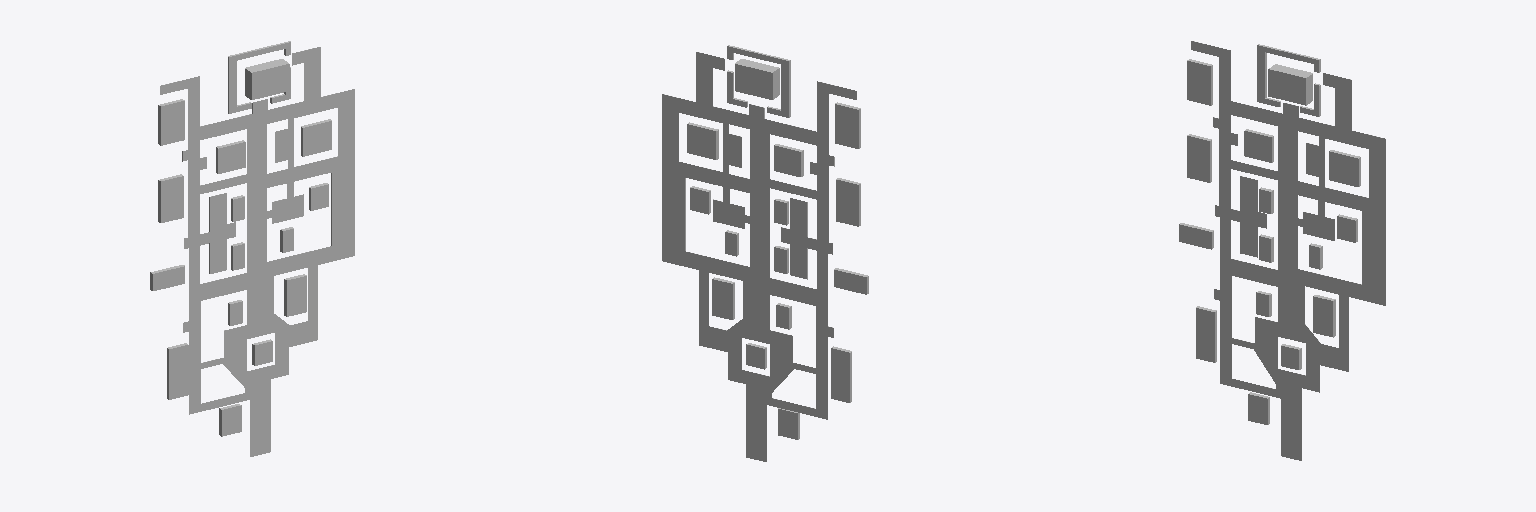
The model's file is exact_map.obj.
3 renders of one model, left to right at view 1: azimuth 30°, elevation 25°; view 2: azimuth 150°, elevation 25°; view 3: azimuth 330°, elevation 25°, orthographic.
Parts seen in each view (by area): view 1: Solid1; view 2: Solid1; view 3: Solid1.
Part boxes in pixels (x1,y1,x2,y2): Solid1: (150, 41, 354, 456); Solid1: (662, 45, 868, 461); Solid1: (1179, 41, 1385, 460).
Bounding box in the file's own units: 126 × 240 × 7.6.